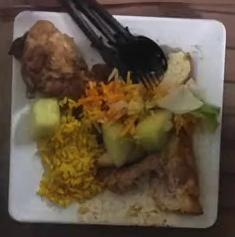chicken: (20, 20, 86, 98), (160, 44, 191, 84)
fruit: (98, 109, 173, 166), (30, 99, 60, 140)
rice: (38, 119, 102, 205)
taco_mix: (77, 81, 203, 124)
